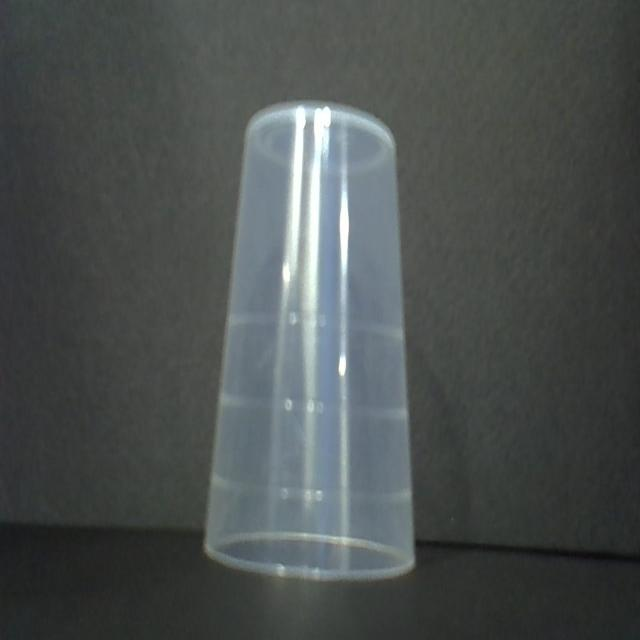cup: (197, 99, 422, 590)
